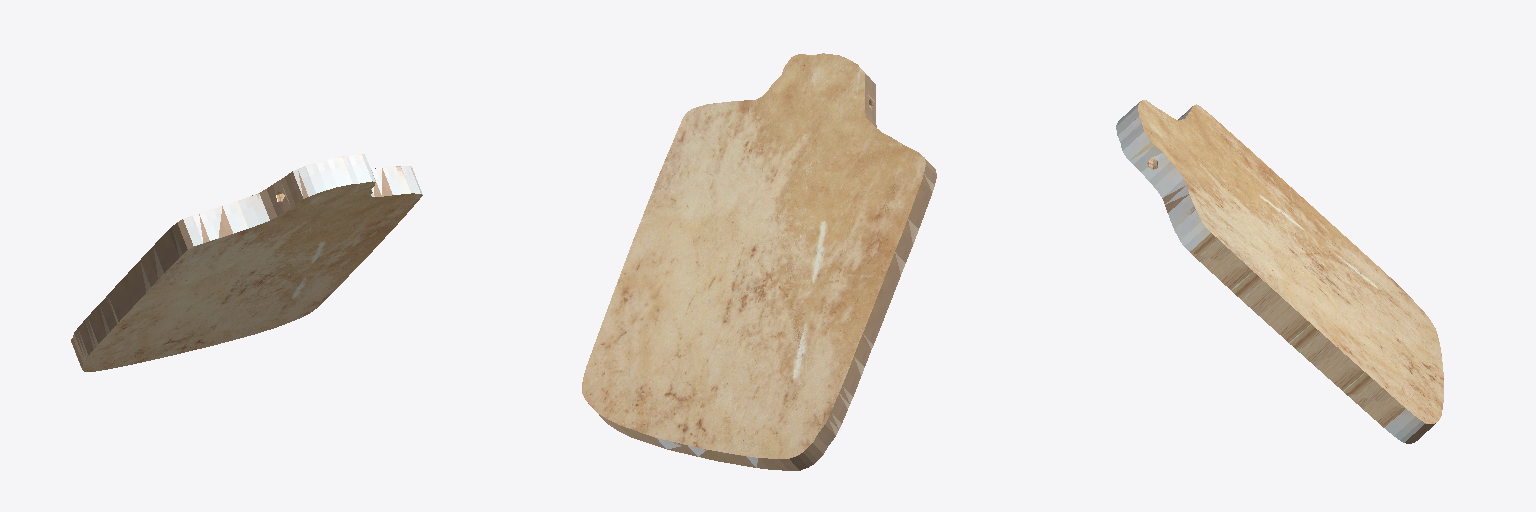
3 renders of one model, left to right at view 1: azimuth 30°, elevation 25°; view 2: azimuth 150°, elevation 25°; view 3: azimuth 270°, elevation 25°, orthographic.
Visible parts, largest first — view 1: Layer_lines; view 2: Layer_lines; view 3: Layer_lines.
Boxes of the visible parts, box(x1,y1,x2,y2) form: Layer_lines: box(71, 154, 422, 371); Layer_lines: box(582, 53, 936, 470); Layer_lines: box(1116, 100, 1443, 443).
Size of the model in its own units: 2.2 by 2.57 by 2.57.
Materials: 1 (1 with a texture image).